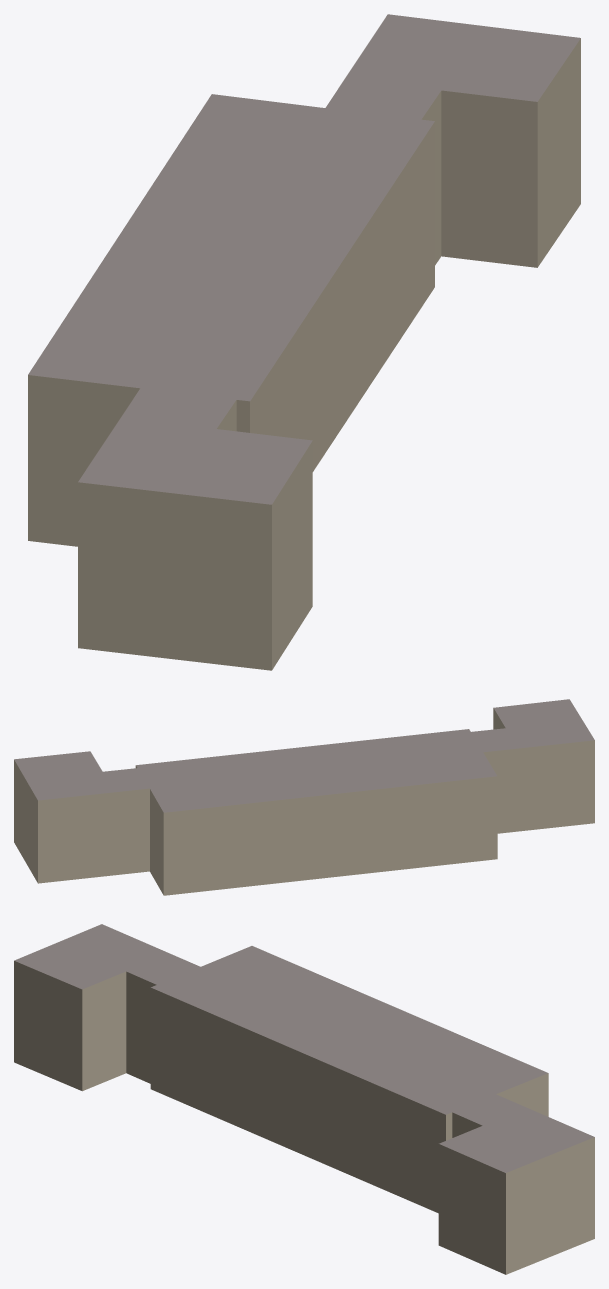
3 views of the same model, one above another, from view 1: azimuth 30°, elevation 25°; view 2: azimuth 150°, elevation 25°; view 3: azimuth 270°, elevation 25° (orthographic). The views are drawn at different scales.
Parts seen in each view (by area): view 1: tuile; view 2: tuile; view 3: tuile.
Boxes of the visible parts, x1=… form: tuile: x1=28, y1=14, x2=580, y2=670; tuile: x1=14, y1=699, x2=594, y2=895; tuile: x1=14, y1=924, x2=594, y2=1274.
Size of the model in its own units: 48.3 by 9.2 by 47.6.
